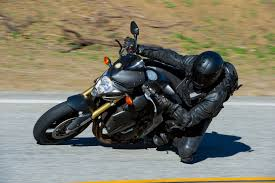helmet: (192, 51, 223, 87)
